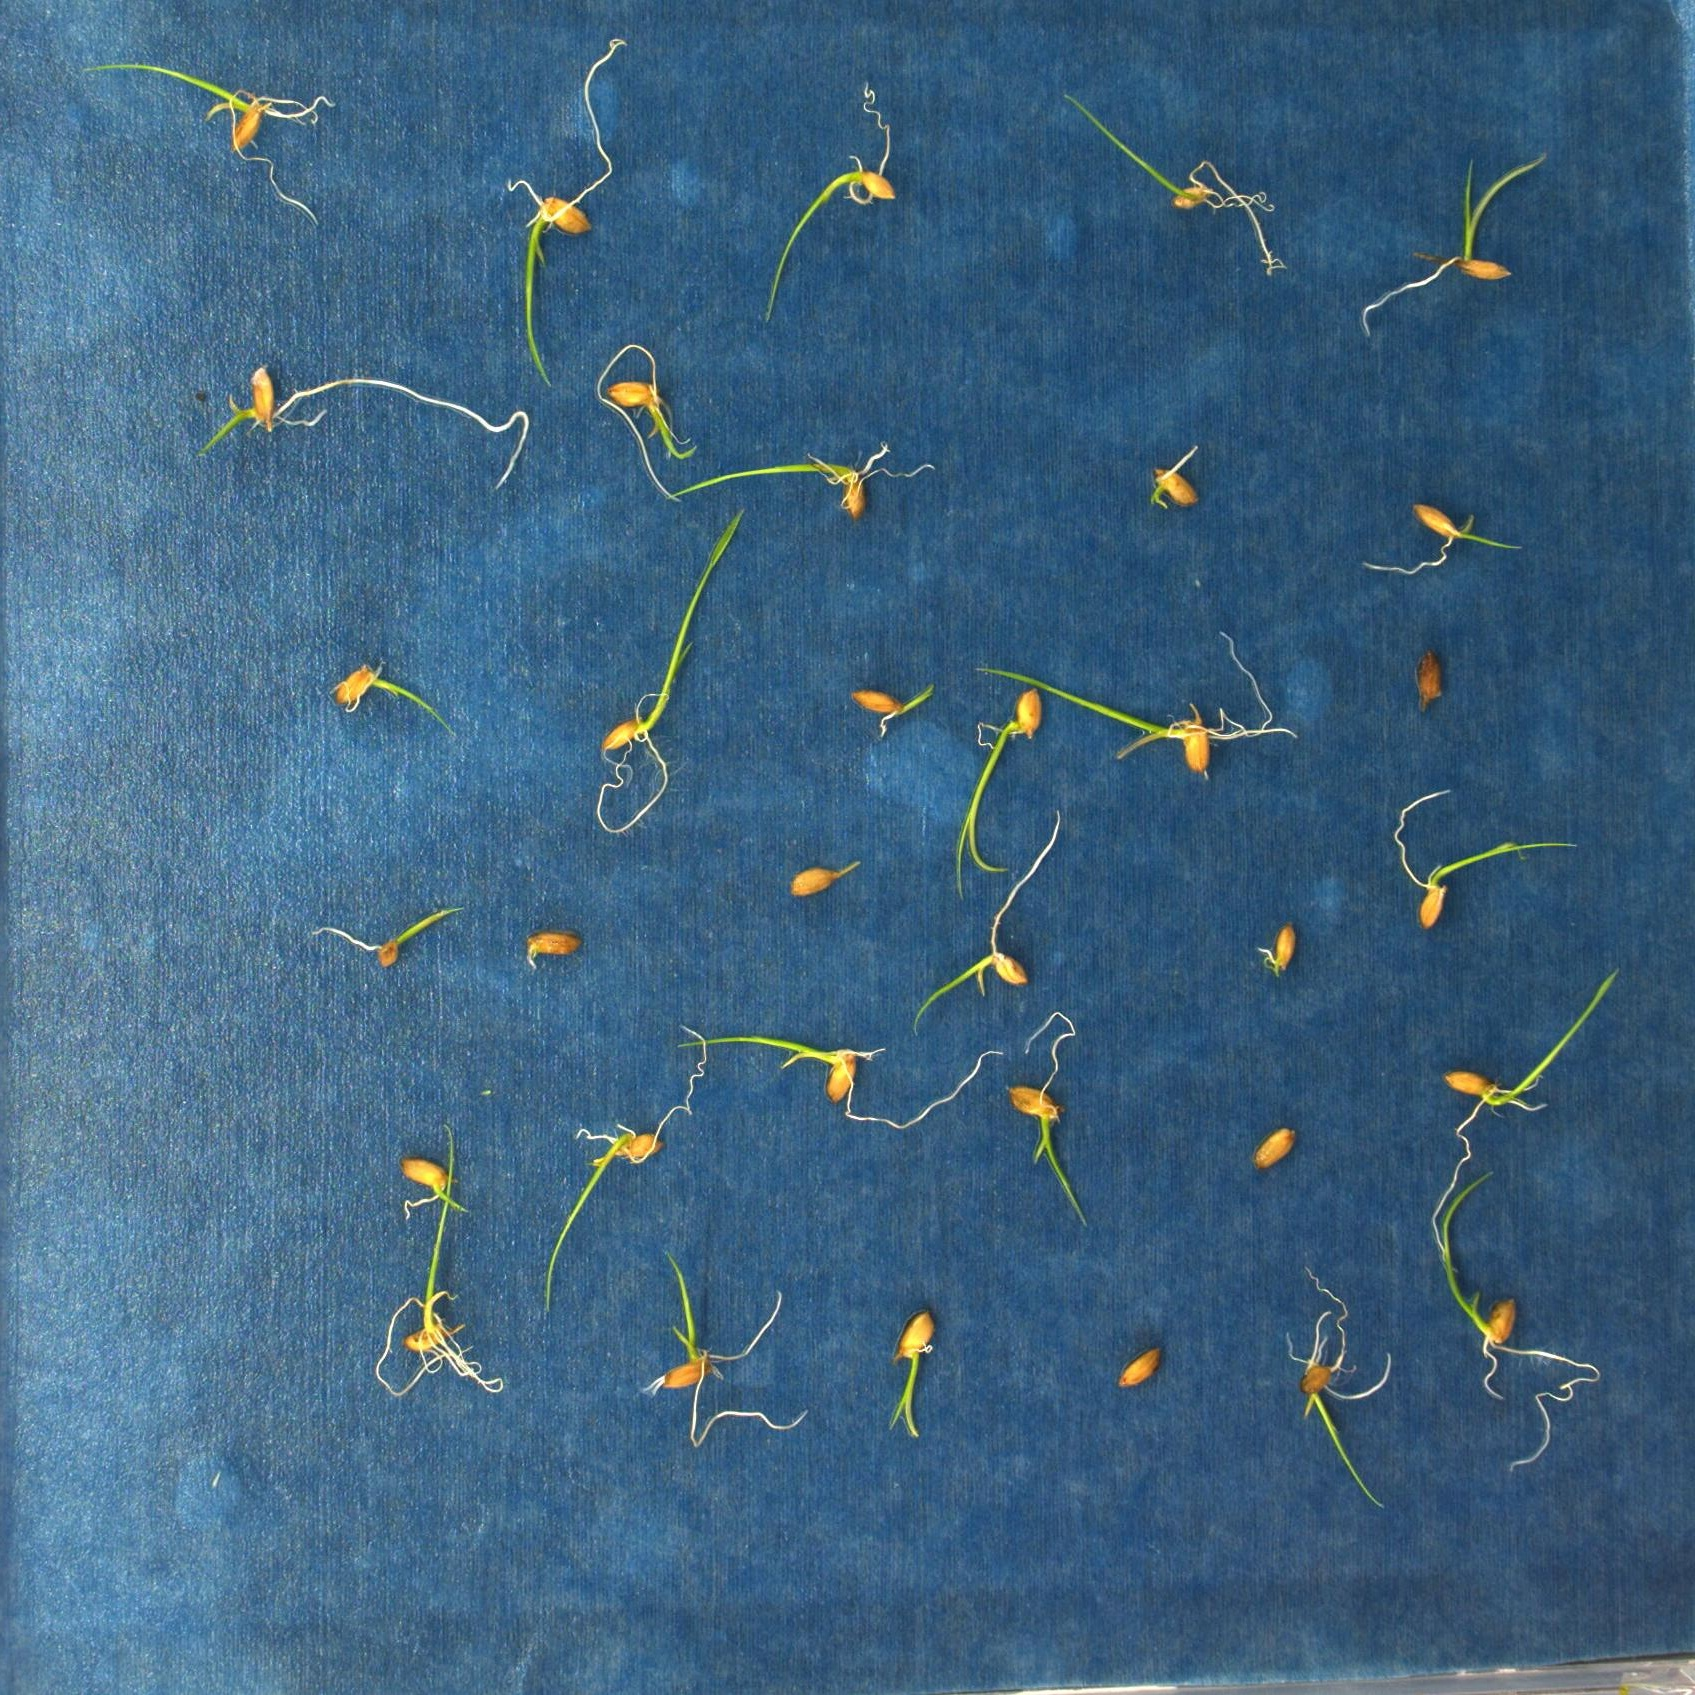not sprout: (522, 931, 584, 973), (1412, 646, 1445, 708), (1121, 1346, 1164, 1386), (1254, 1125, 1298, 1166), (1257, 924, 1291, 973)
sprout: (1433, 967, 1624, 1274), (594, 511, 747, 832), (1440, 1170, 1600, 1470), (975, 630, 1295, 773), (546, 1024, 705, 1312), (504, 34, 624, 388), (78, 61, 331, 224), (1062, 95, 1284, 279), (199, 368, 528, 490), (374, 1125, 503, 1392), (1363, 155, 1551, 334), (913, 807, 1059, 1035), (640, 1246, 806, 1447), (764, 78, 897, 320), (675, 1034, 1004, 1132), (1284, 1263, 1392, 1510), (1399, 787, 1579, 931), (672, 445, 934, 520), (955, 686, 1038, 899), (1010, 1012, 1088, 1231), (598, 338, 698, 506), (1354, 508, 1523, 574), (331, 660, 456, 737), (312, 905, 466, 967), (885, 1315, 934, 1437), (399, 1153, 469, 1222), (851, 683, 934, 737), (1147, 444, 1198, 508), (789, 858, 863, 897)
